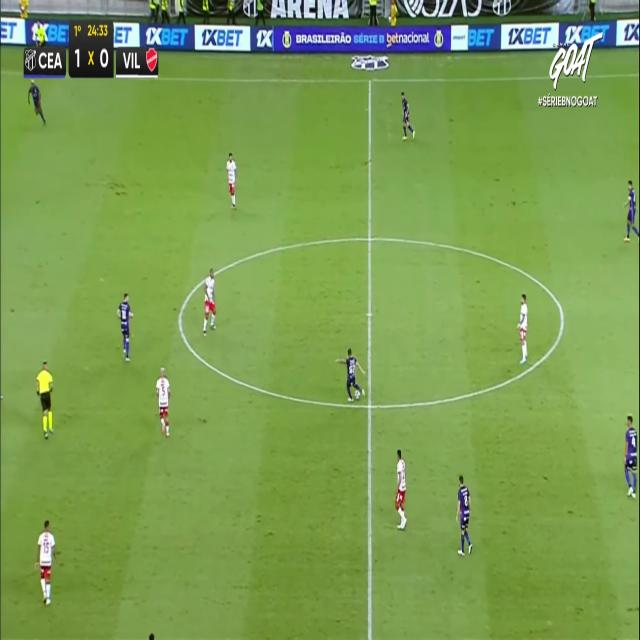ball: (354, 389, 363, 402)
player: (35, 519, 56, 605), (335, 346, 363, 401), (456, 474, 471, 555), (624, 415, 638, 497), (117, 292, 133, 362), (155, 367, 171, 437), (623, 179, 639, 242), (203, 267, 216, 335), (395, 449, 406, 528), (28, 78, 46, 124), (517, 293, 528, 363), (401, 91, 414, 139), (226, 152, 237, 207)
referee: (36, 359, 53, 438)
